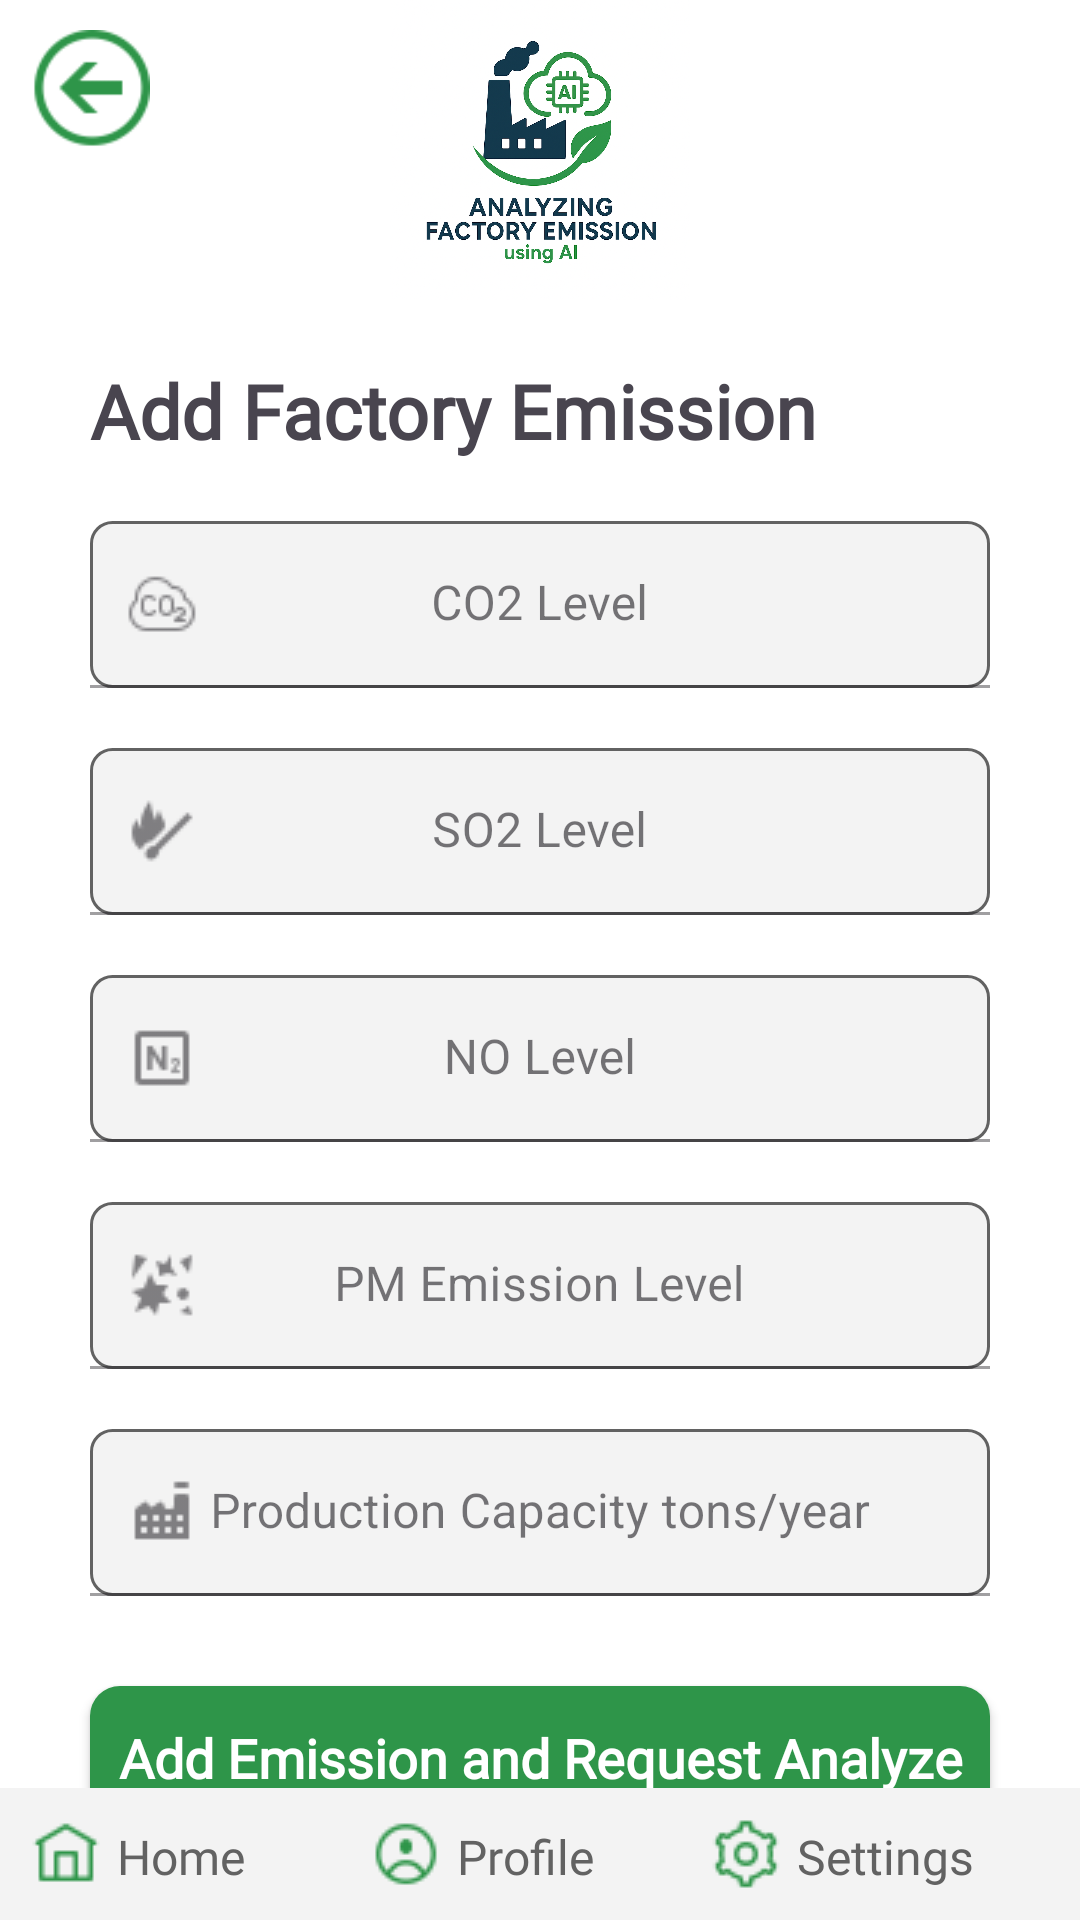

Where icons sit on this 1080x1920 app screen, as [x1,y1,x2,y2]:
back: [34,30,150,146]
